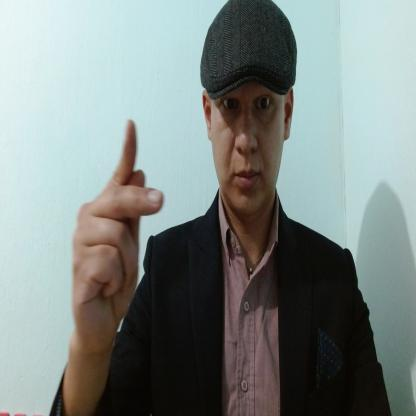P: (71, 116, 165, 345)
